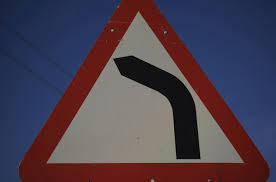Bend_to_left: (16, 1, 271, 182)
